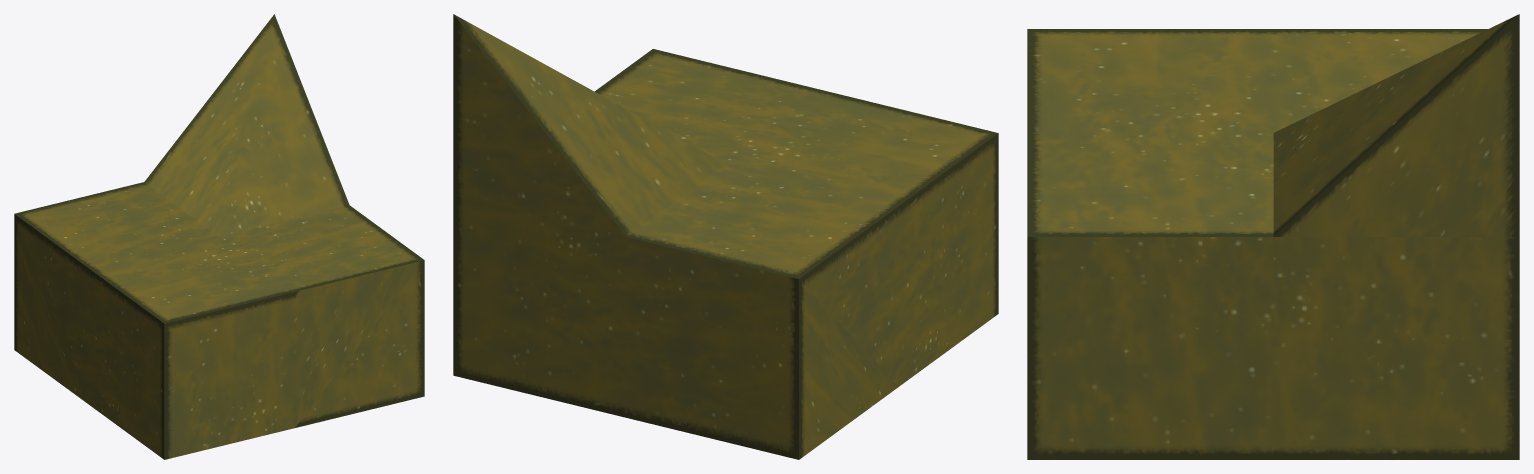
Rendered from 12_path.obj.
3 renders of one model, left to right at view 1: azimuth 30°, elevation 25°; view 2: azimuth 150°, elevation 25°; view 3: azimuth 270°, elevation 25°, orthographic. The views are drawn at different scales.
Parts seen in each view (by area): view 1: 12_path; view 2: 12_path; view 3: 12_path.
Part boxes in pixels (x1,y1,x2,y2): 12_path: (14,14,424,459); 12_path: (453,14,998,459); 12_path: (1027,14,1519,459).
Size of the model in its own units: 1 by 1 by 1.
1 material, 1 textured.
